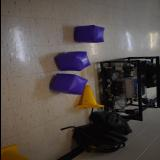cone: (74, 85, 104, 109), (0, 144, 31, 160)
cube: (48, 73, 88, 95), (54, 52, 90, 72), (74, 25, 104, 43)
